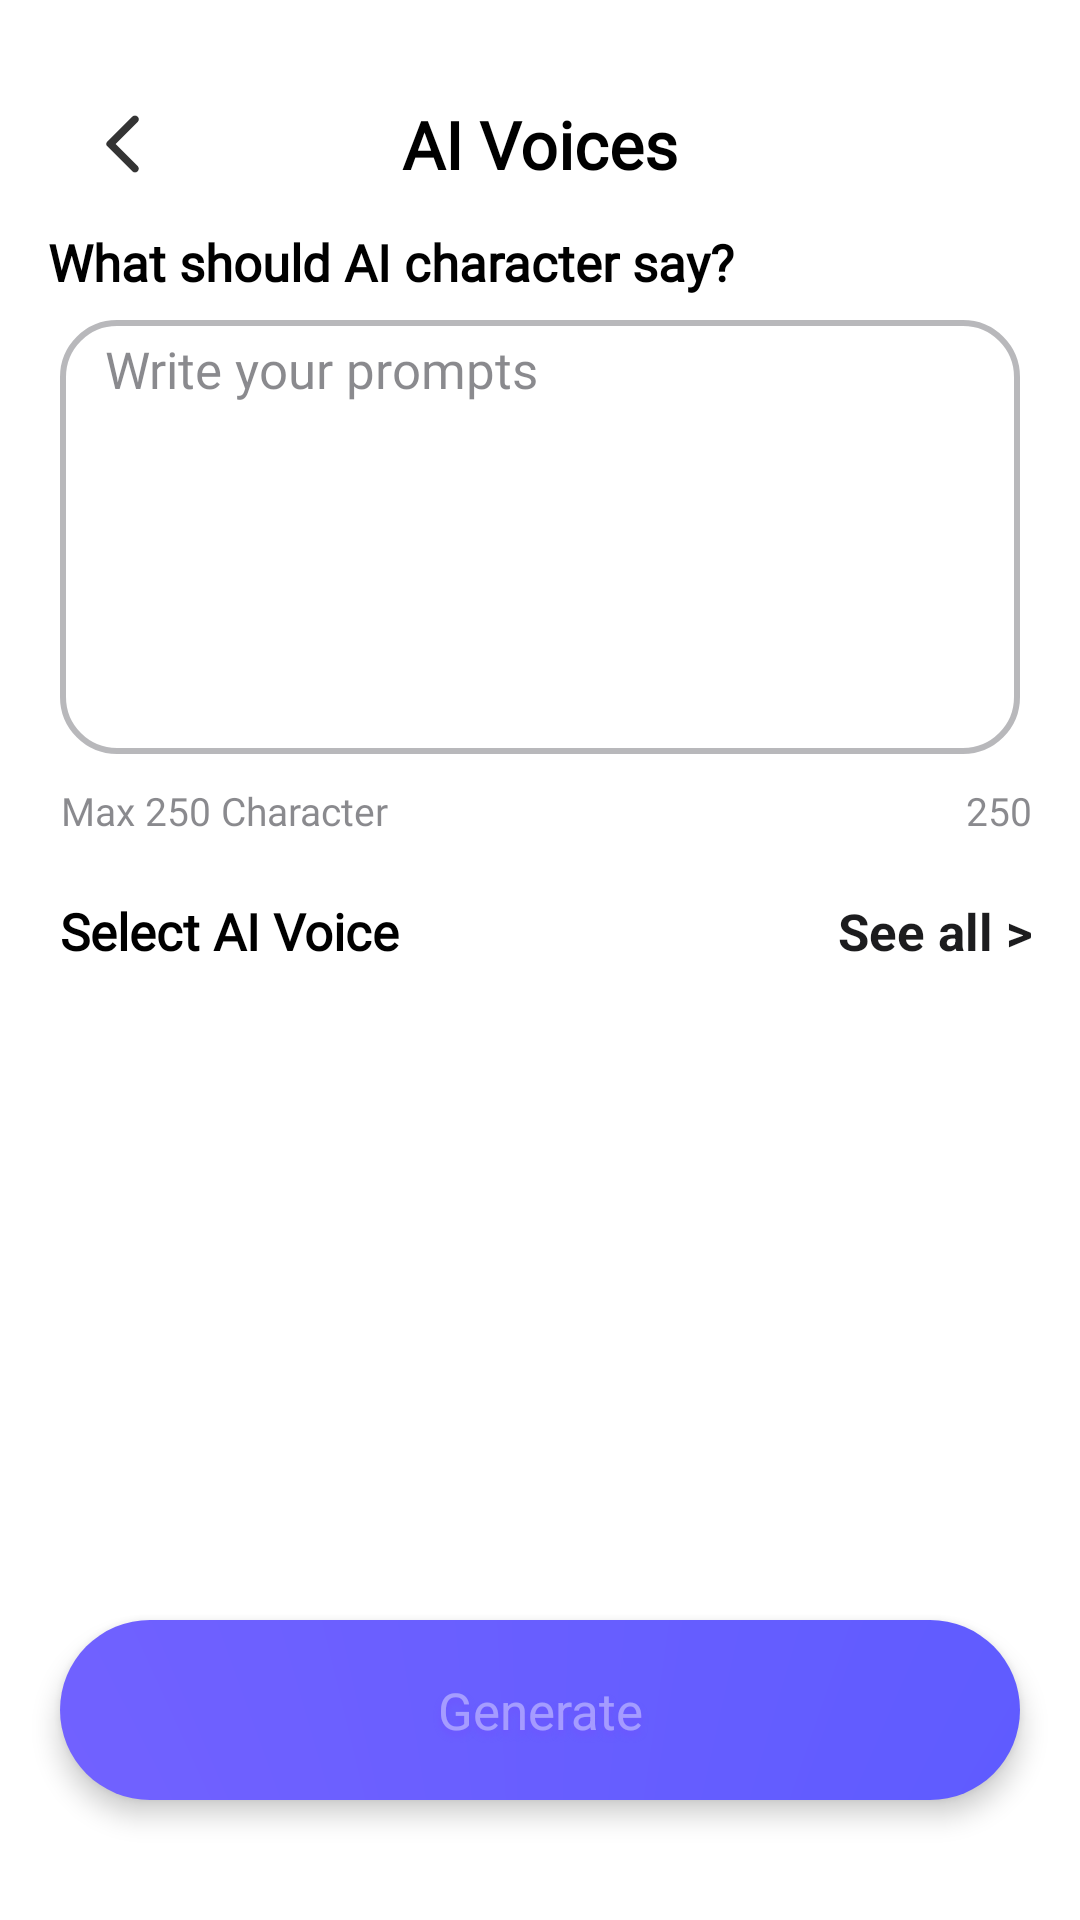

Icons on this 1080x1920 Android screen, each with its box as (x1, y1, x2, y2):
back: (106, 115, 139, 173)
